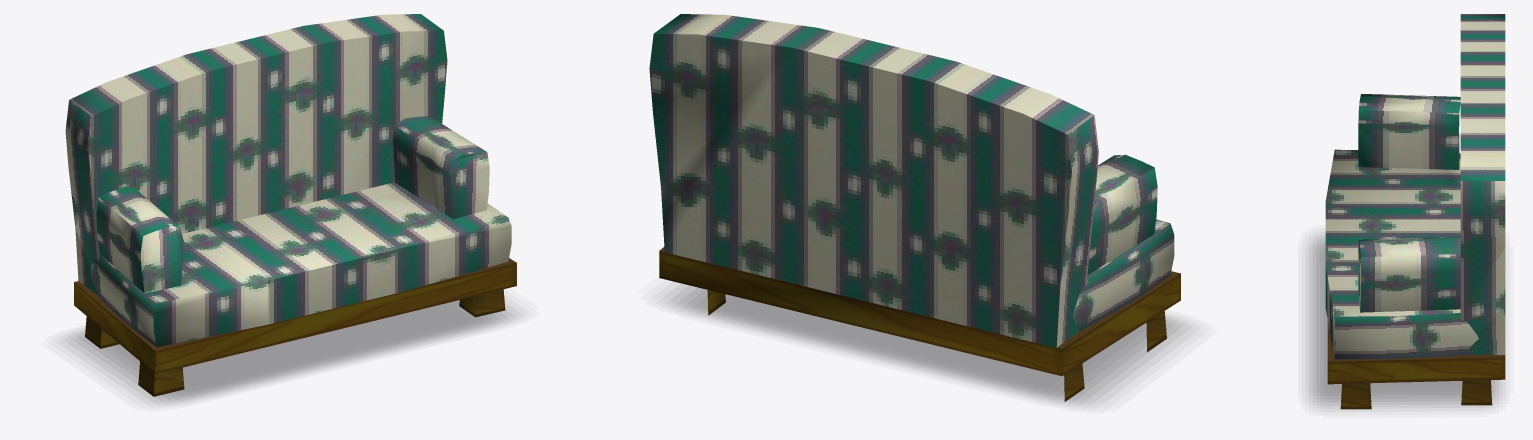
The model's file is couch_2person.glb.
3 views of the same model, side by side, from view 1: azimuth 30°, elevation 25°; view 2: azimuth 150°, elevation 25°; view 3: azimuth 270°, elevation 25° (orthographic). The views are drawn at different scales.
Visible parts, largest first — view 1: random_to1_TI_couch, frame_base, drop_shadow; view 2: random_to1_TI_couch, frame_base, drop_shadow; view 3: random_to1_TI_couch, frame_base, drop_shadow.
Part boxes in pixels (x1=…): random_to1_TI_couch: x1=65, y1=14, x2=511, y2=347; frame_base: x1=74, y1=258, x2=516, y2=396; drop_shadow: x1=64, y1=300, x2=518, y2=404; random_to1_TI_couch: x1=649, y1=14, x2=1174, y2=347; frame_base: x1=659, y1=247, x2=1180, y2=401; drop_shadow: x1=662, y1=284, x2=1190, y2=404; random_to1_TI_couch: x1=1325, y1=14, x2=1505, y2=359; frame_base: x1=1327, y1=320, x2=1505, y2=409; drop_shadow: x1=1309, y1=235, x2=1502, y2=408.
Size of the model in its own units: 7.26 by 3.95 by 3.38.
3 materials, 3 textured.
